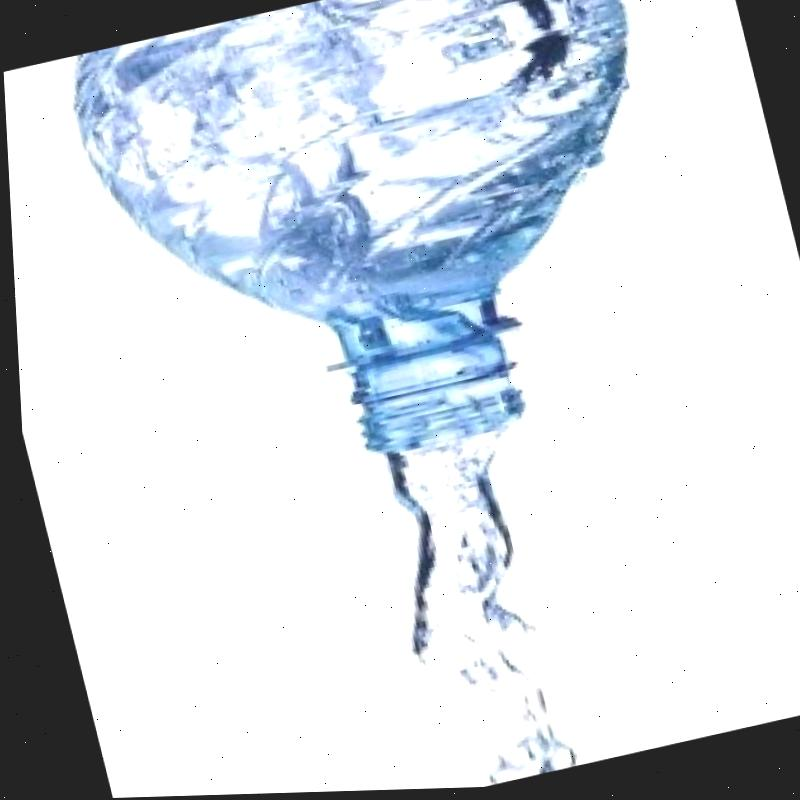botella: (53, 0, 717, 510)
